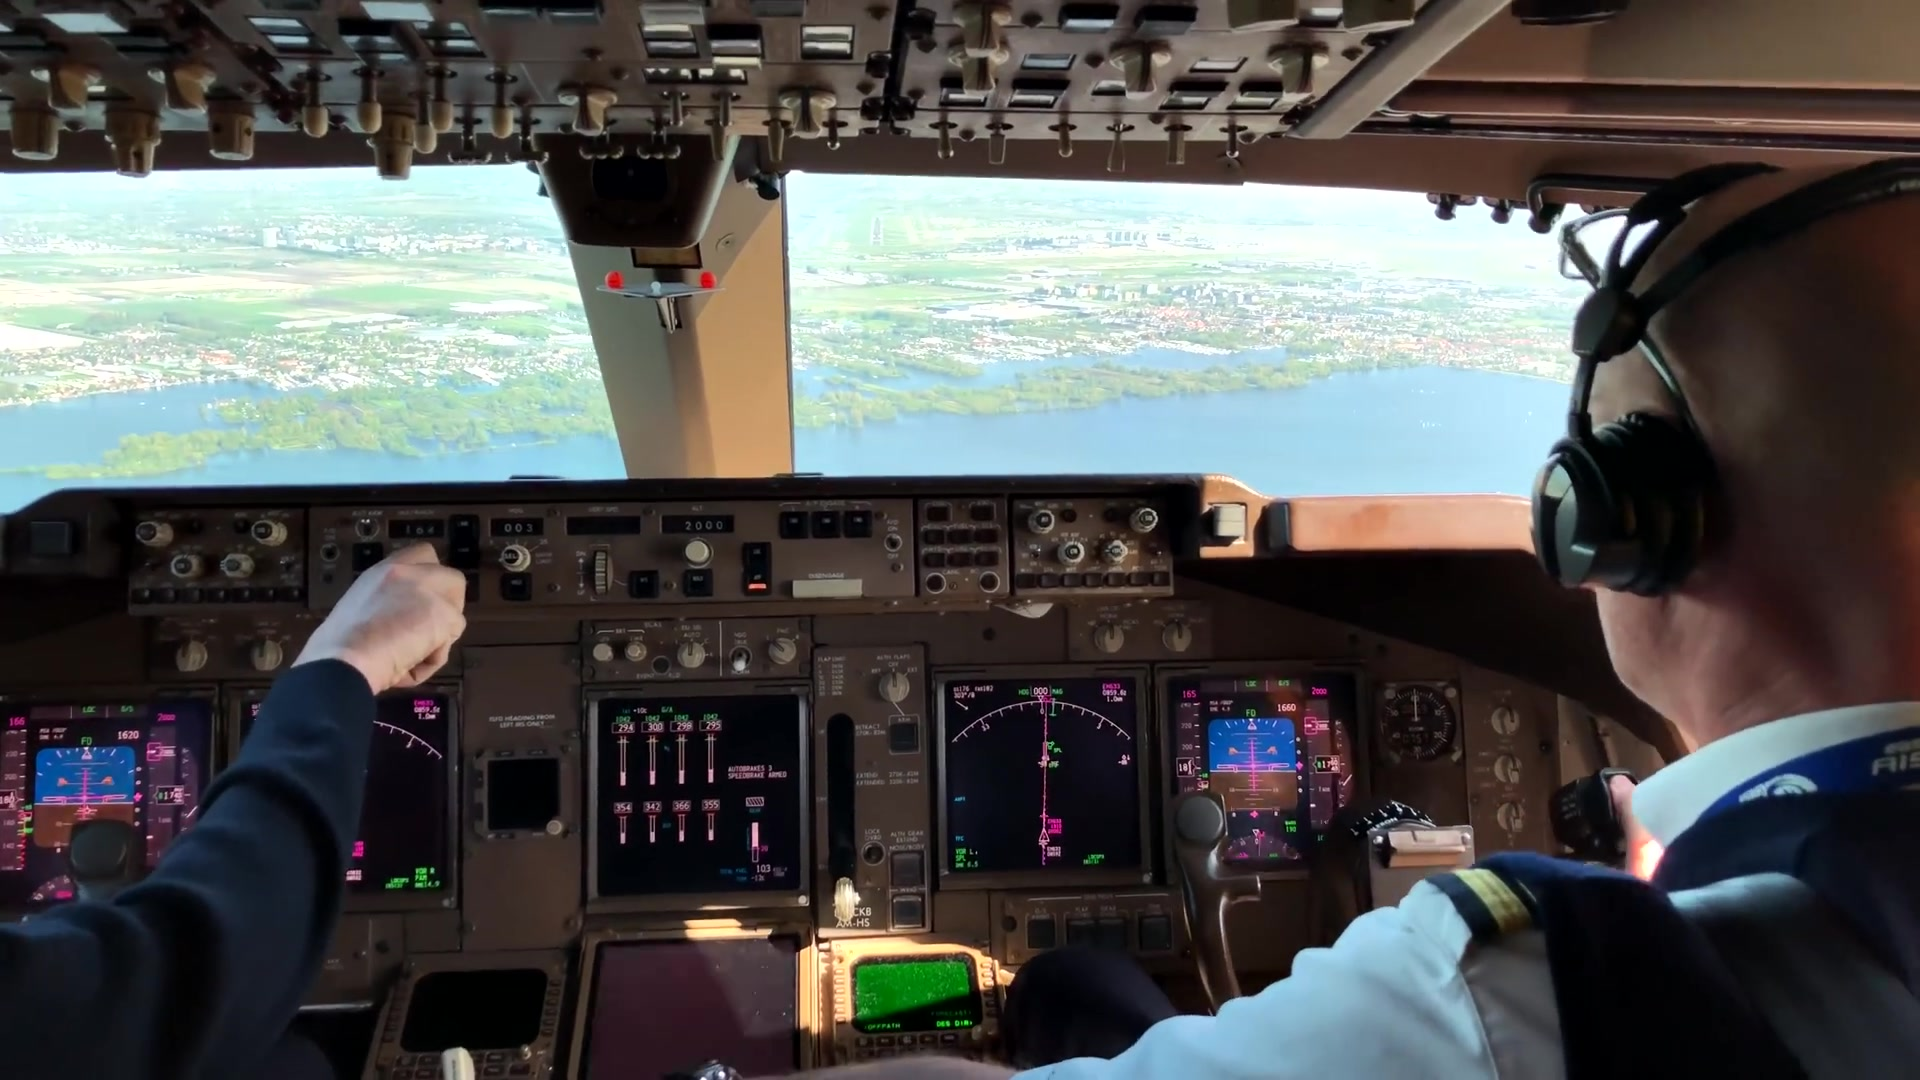runway: (868, 214, 884, 248)
